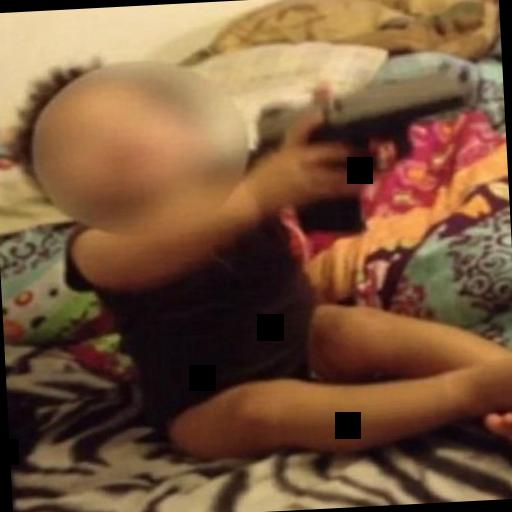Handgun: (254, 64, 480, 240)
